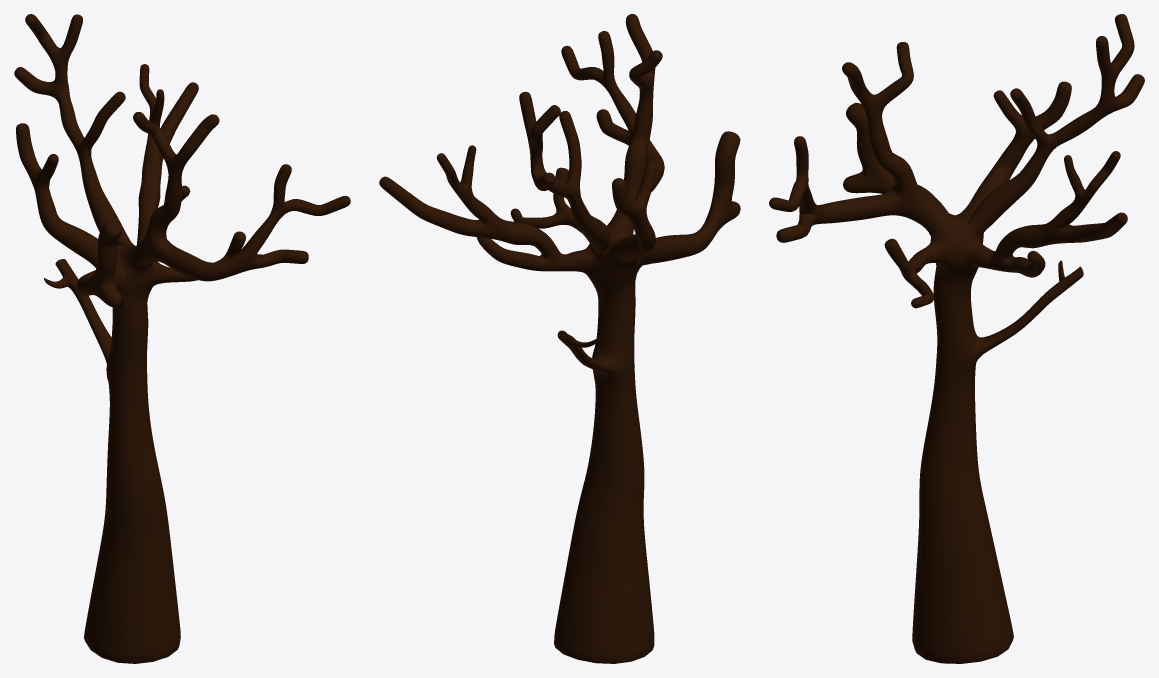
The model's file is arvore 2.fbx.
3 views of the same model, side by side, from view 1: azimuth 30°, elevation 25°; view 2: azimuth 150°, elevation 25°; view 3: azimuth 270°, elevation 25° (orthographic). The views are drawn at different scales.
Visible parts, largest first — view 1: Cube; view 2: Cube; view 3: Cube.
Boxes of the visible parts, x1,y1,x2,y2 form: Cube: (14,14,350,663); Cube: (379,14,740,663); Cube: (769,14,1144,663).
Size of the model in its own units: 490 by 1245 by 685.
